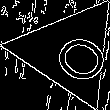O_NW: (33, 19, 105, 85)
